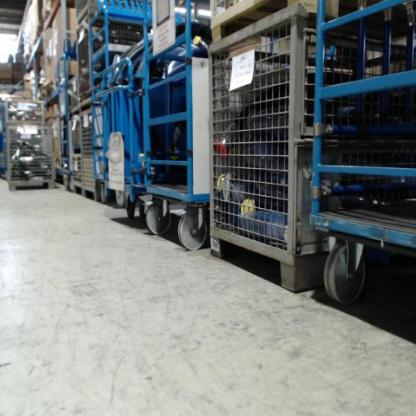stillage: (210, 4, 357, 292), (5, 122, 53, 190), (73, 111, 98, 204), (75, 17, 98, 107), (6, 97, 49, 127), (70, 1, 128, 20)
